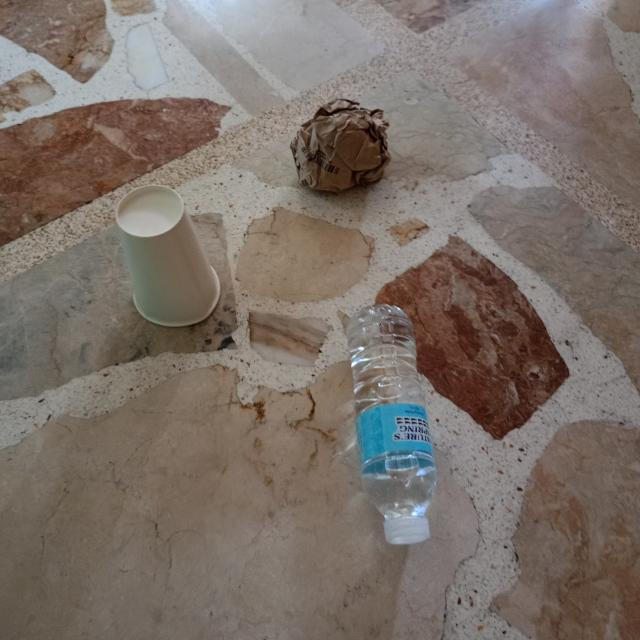Anorganik: (335, 293, 460, 555)
Organik: (99, 176, 235, 337), (274, 93, 398, 206)
